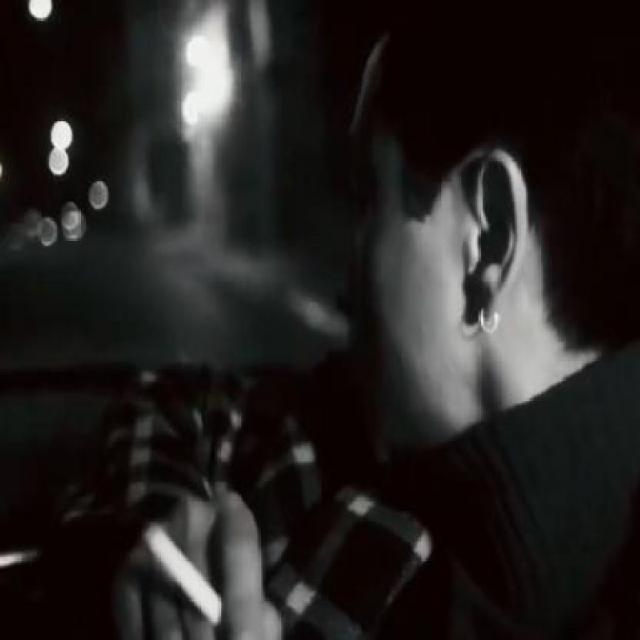cigarette: (124, 503, 238, 639)
